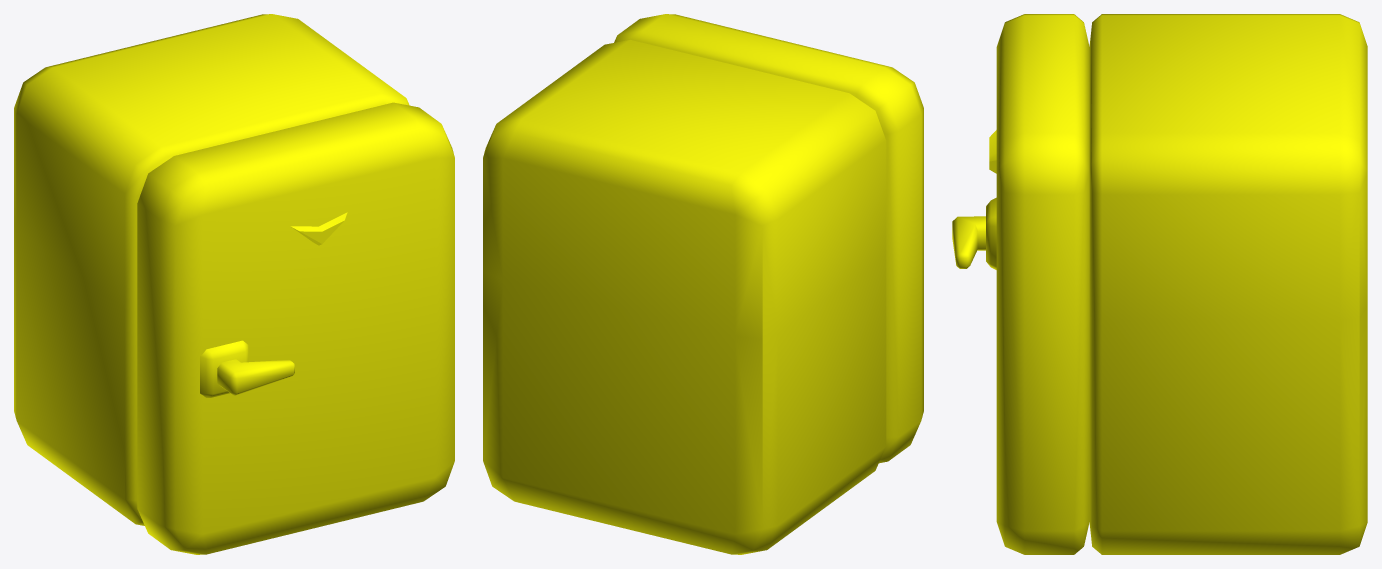
File: fridge_B.gltf
3 renders of one model, left to right at view 1: azimuth 30°, elevation 25°; view 2: azimuth 150°, elevation 25°; view 3: azimuth 270°, elevation 25°, orthographic. The views are drawn at different scales.
Visible parts, largest first — view 1: fridge_B_door, fridge_B; view 2: fridge_B, fridge_B_door; view 3: fridge_B, fridge_B_door.
Part boxes in pixels (x1,y1,x2,y2): fridge_B_door: (137,102,454,554); fridge_B: (14,14,409,525); fridge_B: (483,39,886,554); fridge_B_door: (614,14,923,463); fridge_B: (1089,14,1367,554); fridge_B_door: (952,14,1089,554).
Bounding box in the file's own units: 2 × 2.5 × 2.24.
Materials: 1 (1 with a texture image).
